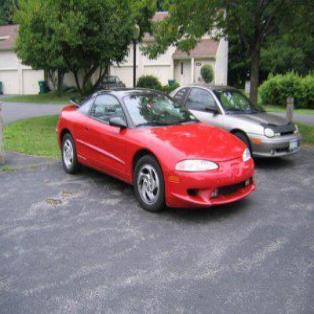Auto: (58, 85, 257, 212)
